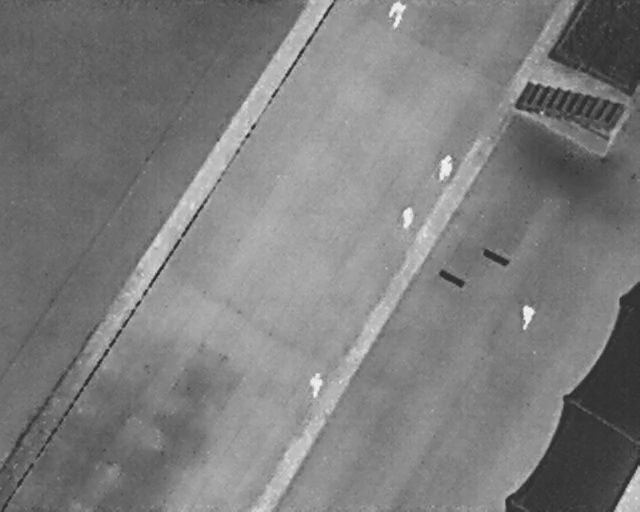Person: (433, 151, 457, 184), (387, 0, 409, 29), (306, 369, 325, 399), (399, 203, 417, 230), (522, 302, 535, 330)
